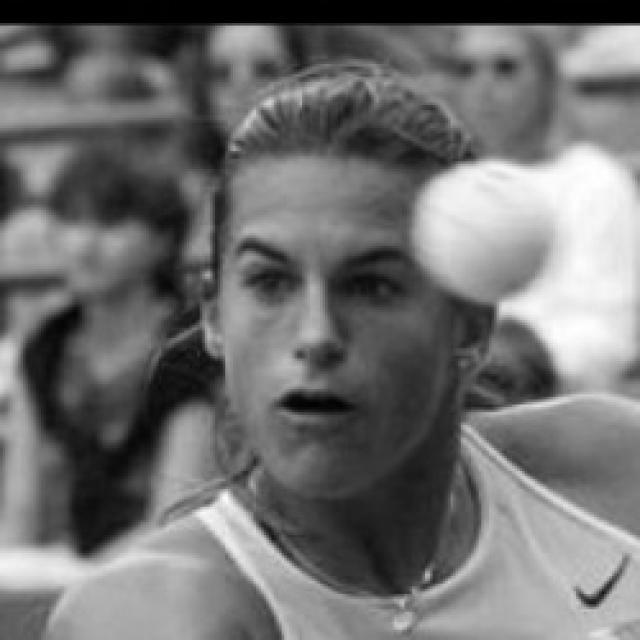real: (191, 76, 492, 518), (215, 239, 405, 315)
